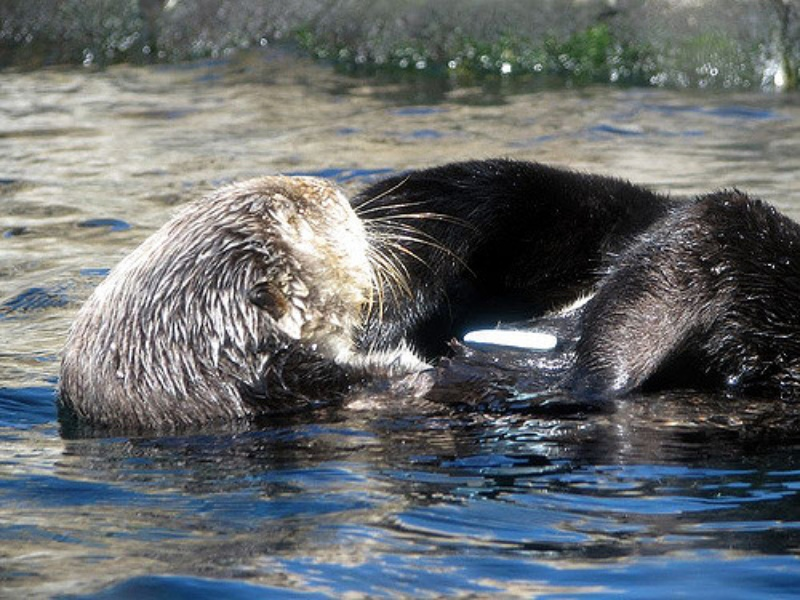minkish: (47, 170, 437, 422)
